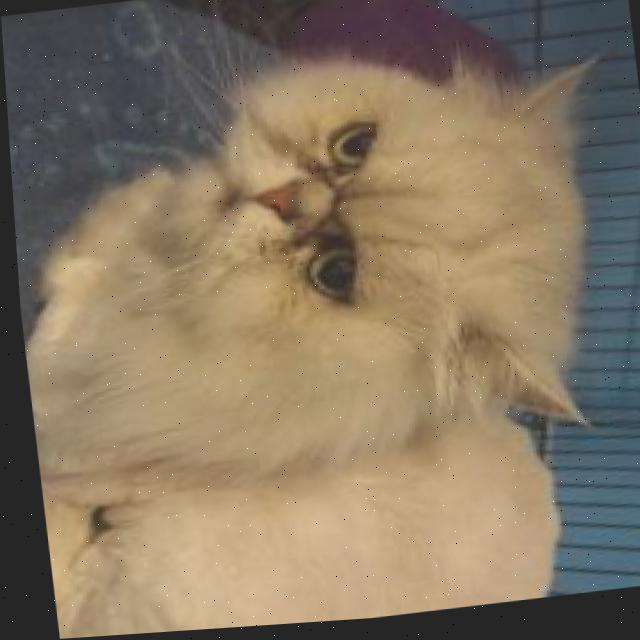Persian: (3, 23, 640, 640)
